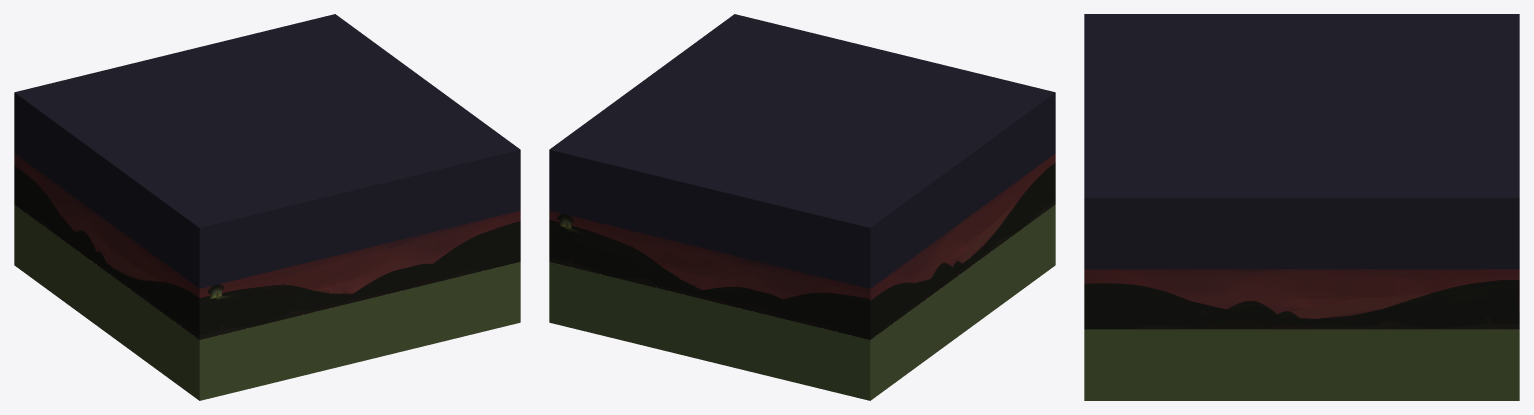
File: LVL4.fbx
3 views of the same model, side by side, from view 1: azimuth 30°, elevation 25°; view 2: azimuth 150°, elevation 25°; view 3: azimuth 270°, elevation 25° (orthographic). The views are drawn at different scales.
Parts seen in each view (by area): view 1: LVL3-Sala1.001, LVL3-Sala3.001, LVL3-Sala2.001; view 2: LVL3-Sala1.001, LVL3-Sala3.001, LVL3-Sala2.001; view 3: LVL3-Sala1.001, LVL3-Sala3.001, LVL3-Sala2.001.
Part boxes in pixels (left/top/right/bottom): LVL3-Sala1.001: left=14, top=14, right=520, bottom=288; LVL3-Sala3.001: left=14, top=204, right=520, bottom=400; LVL3-Sala2.001: left=14, top=153, right=520, bottom=339; LVL3-Sala1.001: left=549, top=14, right=1055, bottom=288; LVL3-Sala3.001: left=549, top=204, right=1055, bottom=400; LVL3-Sala2.001: left=549, top=153, right=1055, bottom=339; LVL3-Sala1.001: left=1084, top=14, right=1519, bottom=269; LVL3-Sala3.001: left=1084, top=329, right=1519, bottom=400; LVL3-Sala2.001: left=1084, top=269, right=1519, bottom=329.
Size of the model in its own units: 5.69 by 2.93 by 5.69.
Materials: 14 (2 with a texture image).
